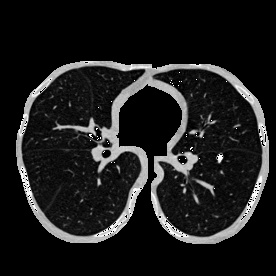PN: (217, 154, 223, 160)
